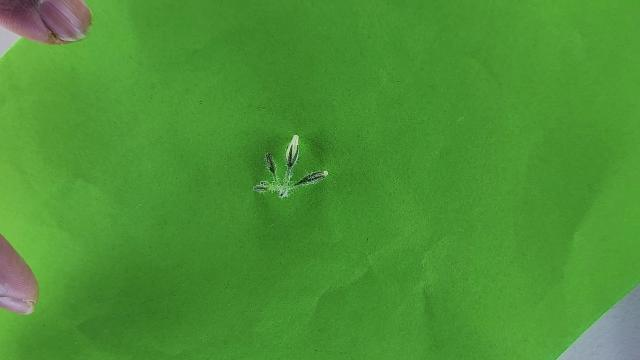Flower Bud: (292, 169, 327, 187), (285, 135, 300, 167), (252, 181, 277, 193), (265, 152, 276, 176)
